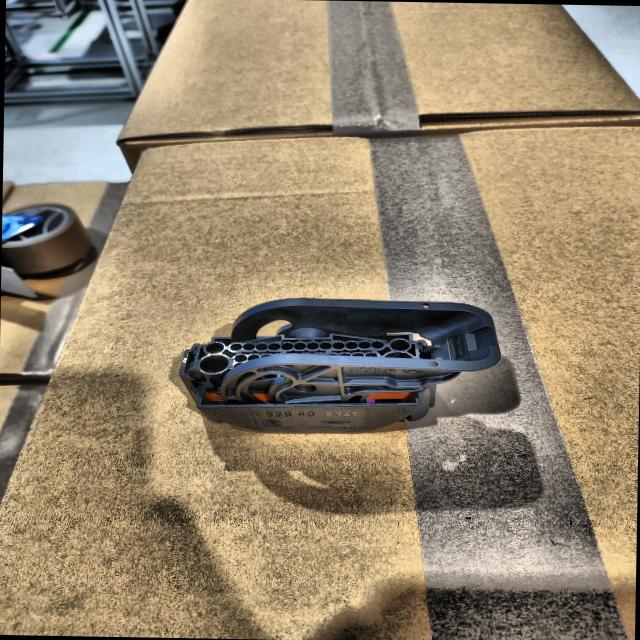P38: (178, 298, 500, 432)
